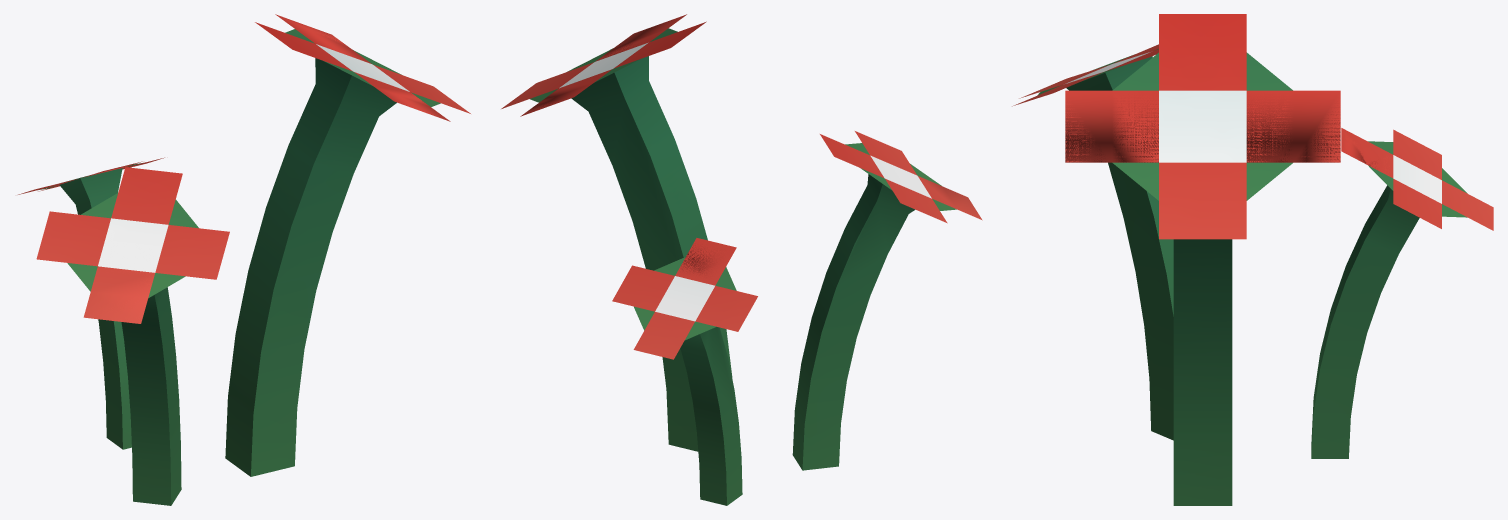
File: flowers.glb
The picture shows the model from 3 angles, left to right: view 1: azimuth 30°, elevation 25°; view 2: azimuth 150°, elevation 25°; view 3: azimuth 270°, elevation 25°; orthographic projection. The views are drawn at different scales.
Visible parts, largest first — view 1: flowers; view 2: flowers; view 3: flowers.
Boxes of the visible parts, x1=… form: flowers: x1=18, y1=14, x2=470, y2=505; flowers: x1=501, y1=14, x2=982, y2=505; flowers: x1=1012, y1=14, x2=1493, y2=505.
Bounding box in the file's own units: 0.4975 × 0.464 × 0.4168.
Materials: 1 (1 with a texture image).
